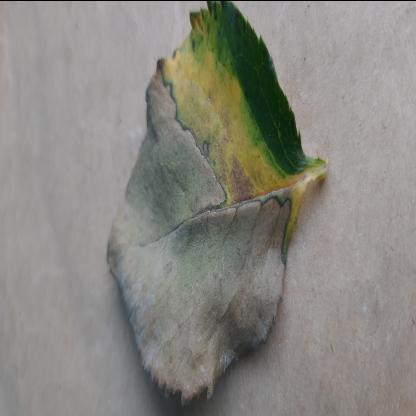black-spot: (102, 9, 308, 394)
